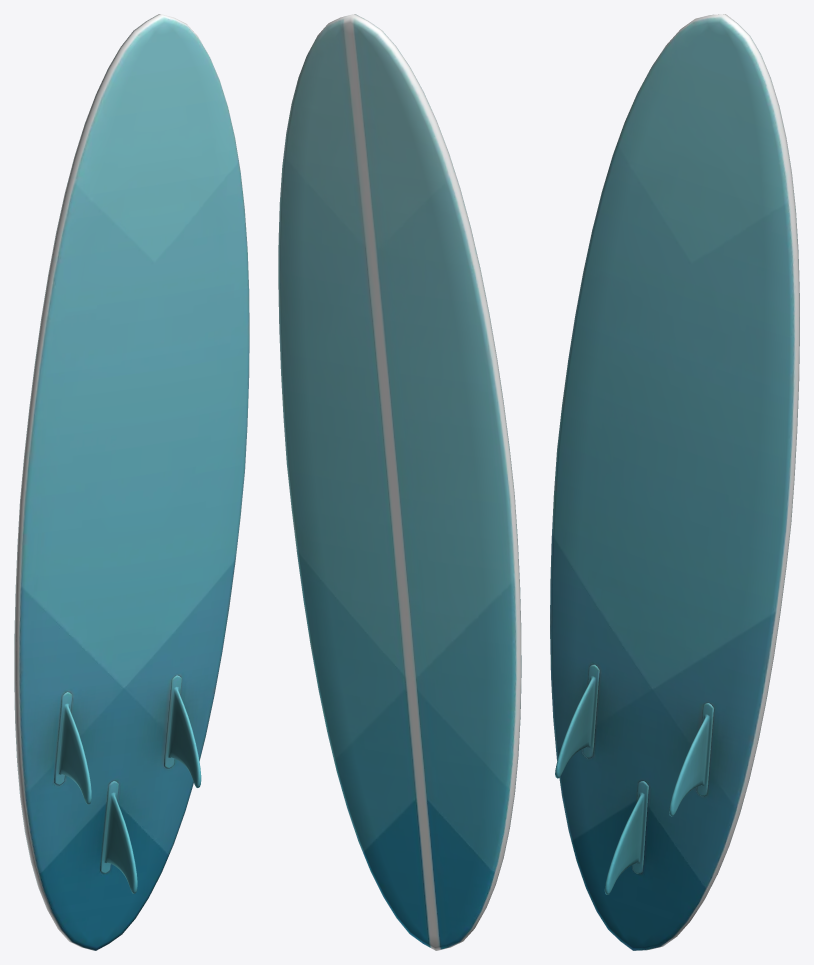
The model's file is surfboard_3.glb.
3 views of the same model, side by side, from view 1: azimuth 30°, elevation 25°; view 2: azimuth 150°, elevation 25°; view 3: azimuth 330°, elevation 25° (orthographic). The views are drawn at different scales.
Visible parts, largest first — view 1: Surfboard_03_Surfboard_03_0; view 2: Surfboard_03_Surfboard_03_0; view 3: Surfboard_03_Surfboard_03_0.
Boxes of the visible parts, bbox=[...] form: Surfboard_03_Surfboard_03_0: bbox=[14, 14, 249, 950]; Surfboard_03_Surfboard_03_0: bbox=[278, 14, 521, 950]; Surfboard_03_Surfboard_03_0: bbox=[550, 14, 799, 950].
Bounding box in the file's own units: 0.5338 × 1.98 × 0.1881.
Materials: 1 (1 with a texture image).
